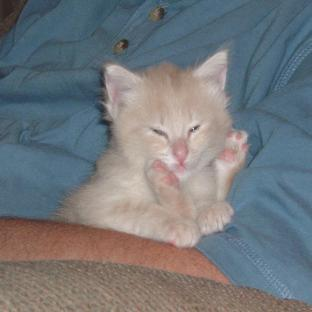Animal: (54, 50, 247, 246)
